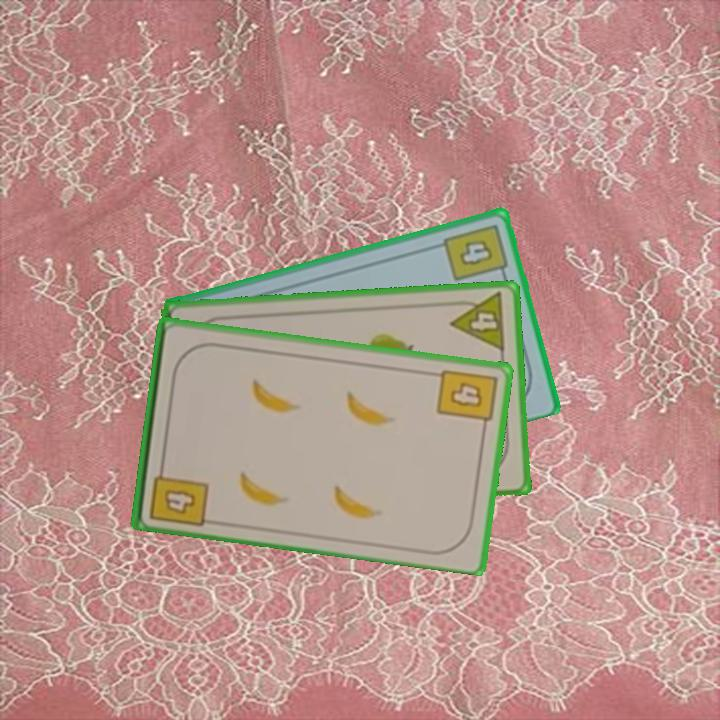4b: (145, 458, 211, 529), (433, 365, 500, 434), (440, 220, 510, 284)
4p: (446, 289, 508, 354)
